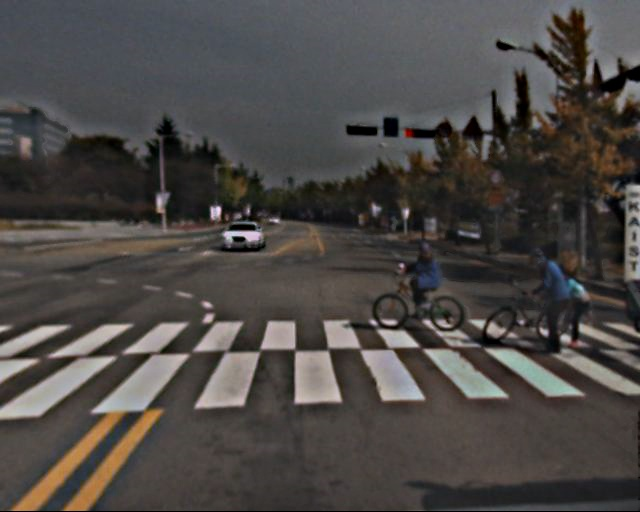person: (526, 252, 569, 356), (555, 271, 588, 352), (410, 241, 442, 320)
